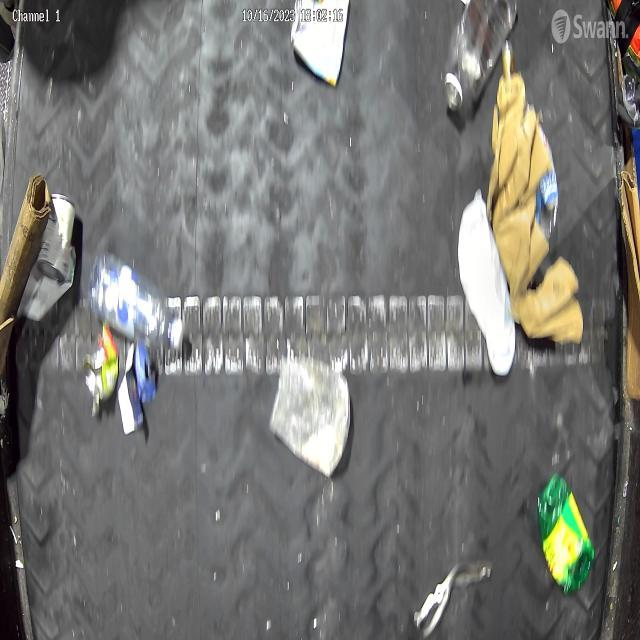can: (36, 194, 76, 282), (83, 324, 119, 420)
milk_jug: (457, 189, 516, 377)
non_white_jug: (290, 0, 350, 87)
plastic_bottle: (88, 251, 184, 351), (443, 0, 518, 112)
